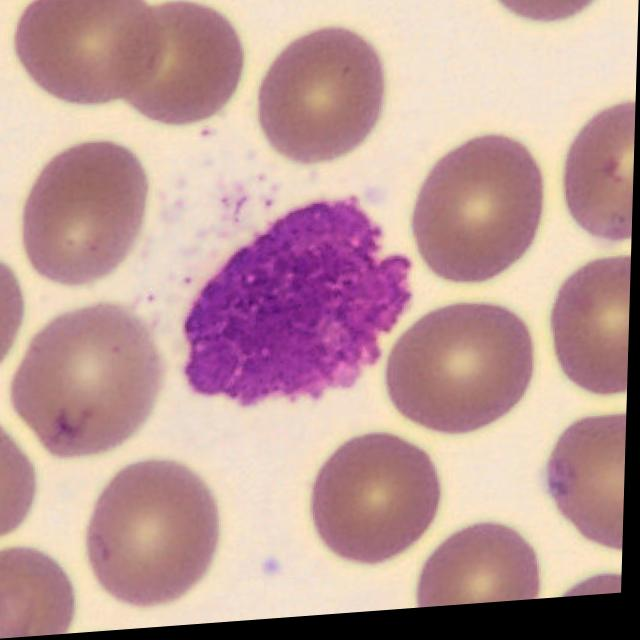Restos celulares: (184, 205, 414, 408)
